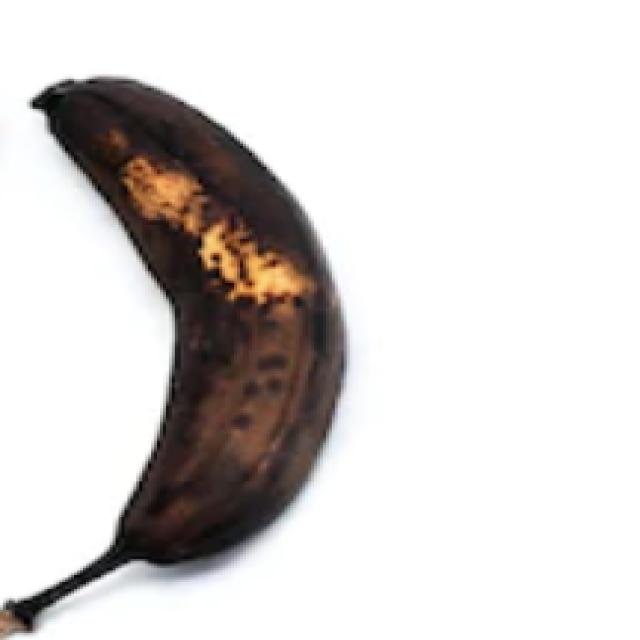Rotten: (2, 56, 355, 580)
